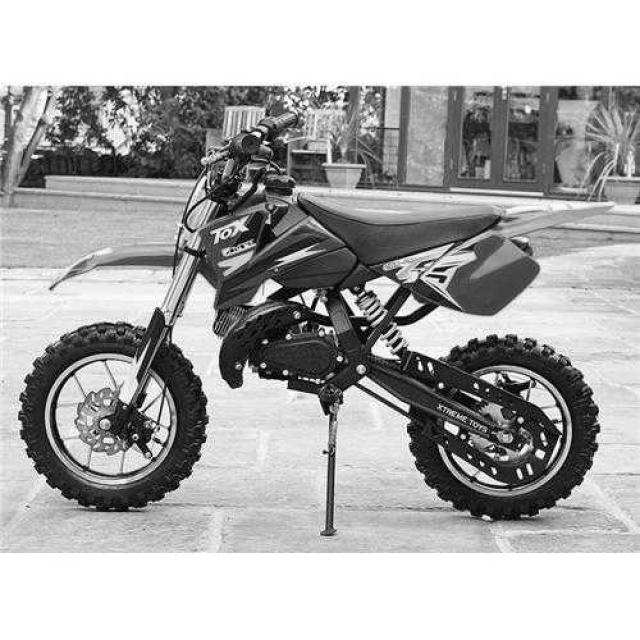Motorcycle: (20, 112, 612, 534)
